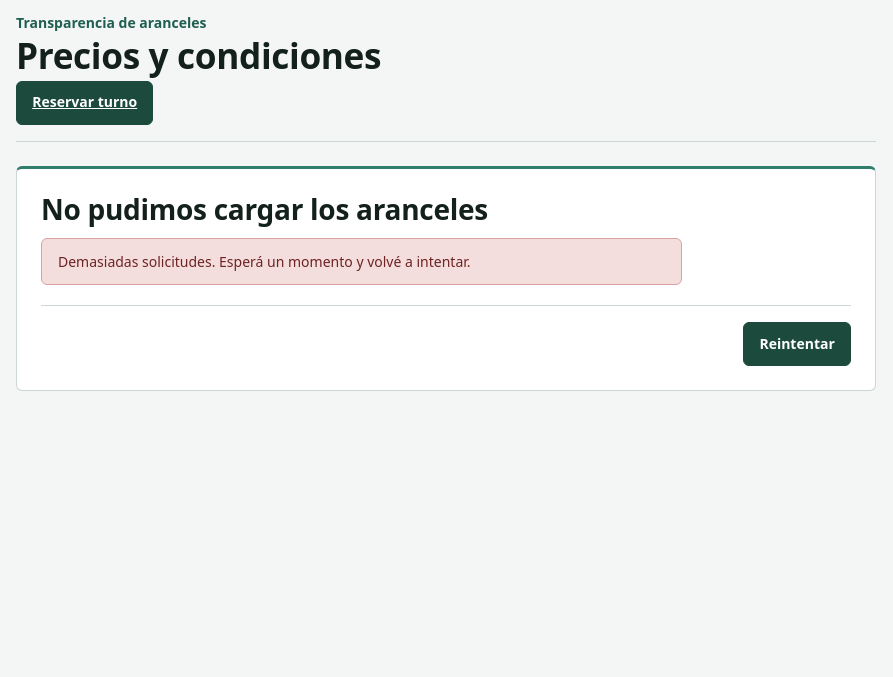
Test: PreciosPage › ante ráfaga 429 permite reintentar y recupera los aranceles
Check: the message shows "Demasiadas solicitudes", box 58,252 -> 471,271
Click the button "Reintentar".
click(797, 344)  # box 743,322 -> 851,366
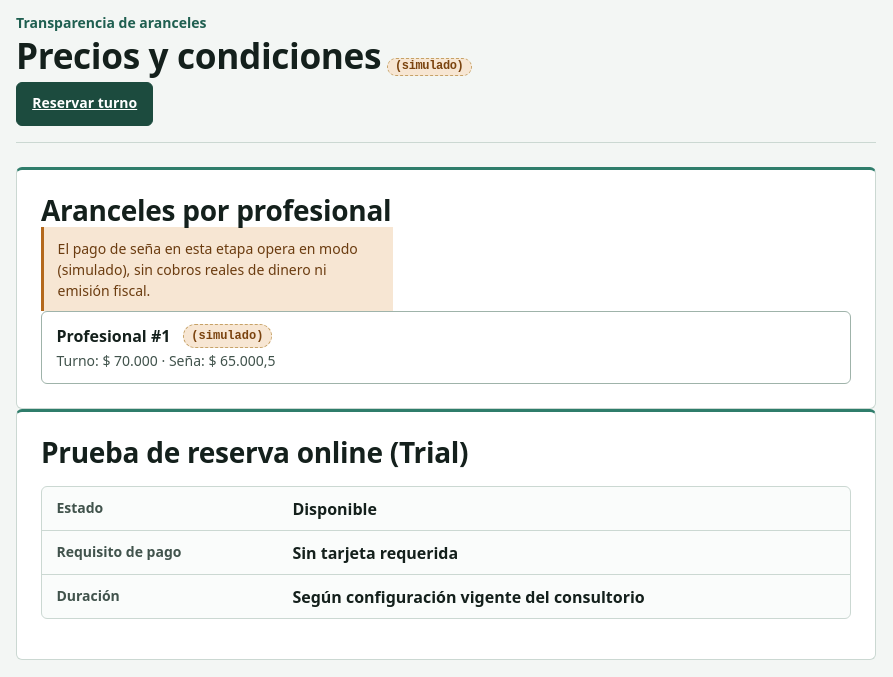
Check: the text "Turno: $ 70.000 · Seña: $ 65.000,5" is shown, box 56,350 -> 276,371
